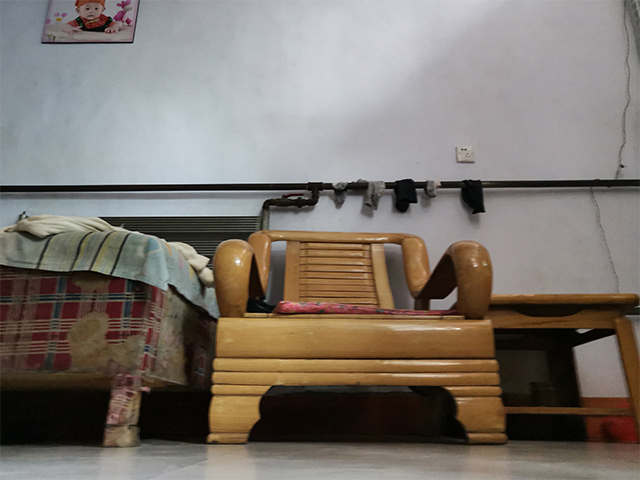bed: (1, 212, 221, 449)
stool: (204, 227, 509, 446)
table: (489, 291, 640, 445)
